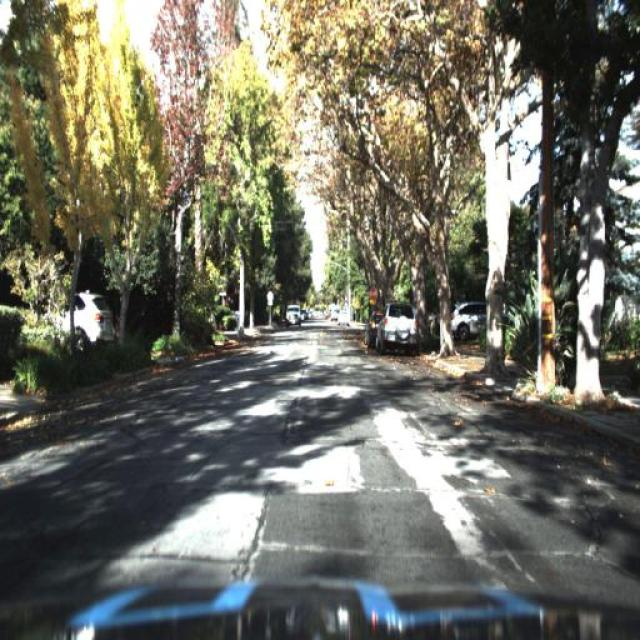car: (44, 288, 115, 348), (442, 294, 508, 342), (377, 303, 422, 361), (362, 307, 381, 353), (284, 299, 304, 330), (335, 302, 354, 331)
